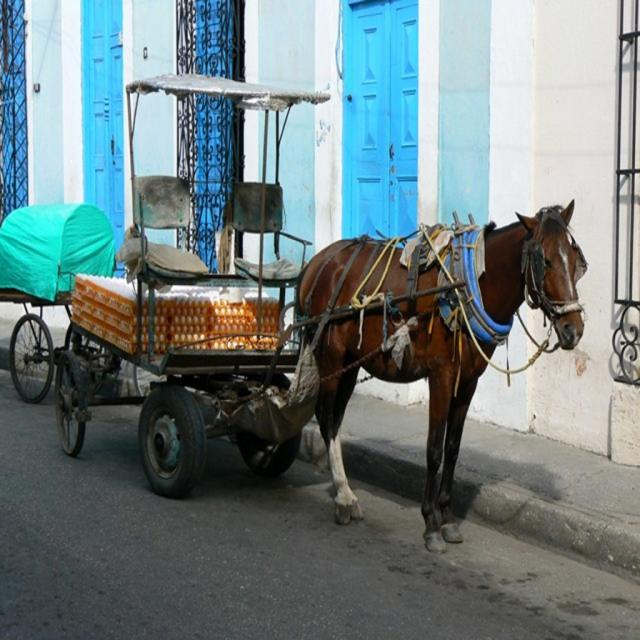Horse: (295, 198, 589, 554)
